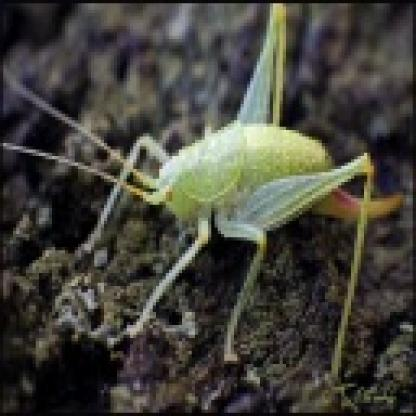grasshopper: (50, 7, 390, 362)
